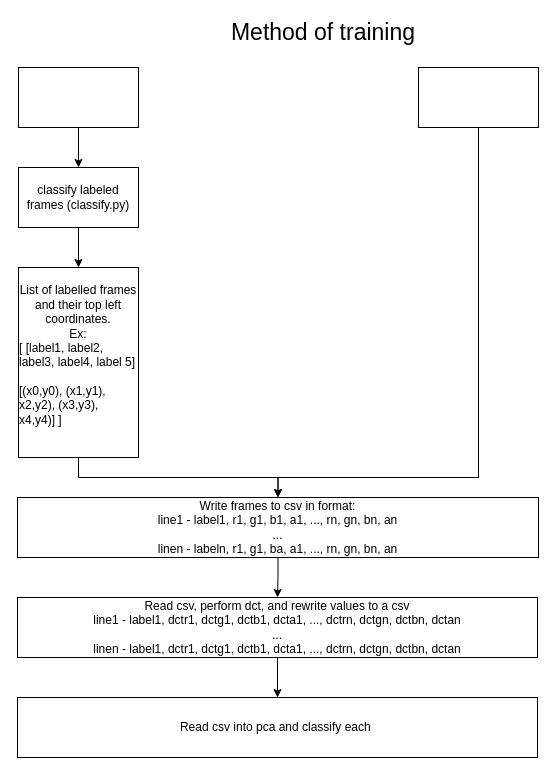
This 556x775 diagram has some shape labels left out. Here are the shapes that lost their labels. From the top down, the centre of each, then its label:
point 78,97: csv file
point 478,97: svs file
